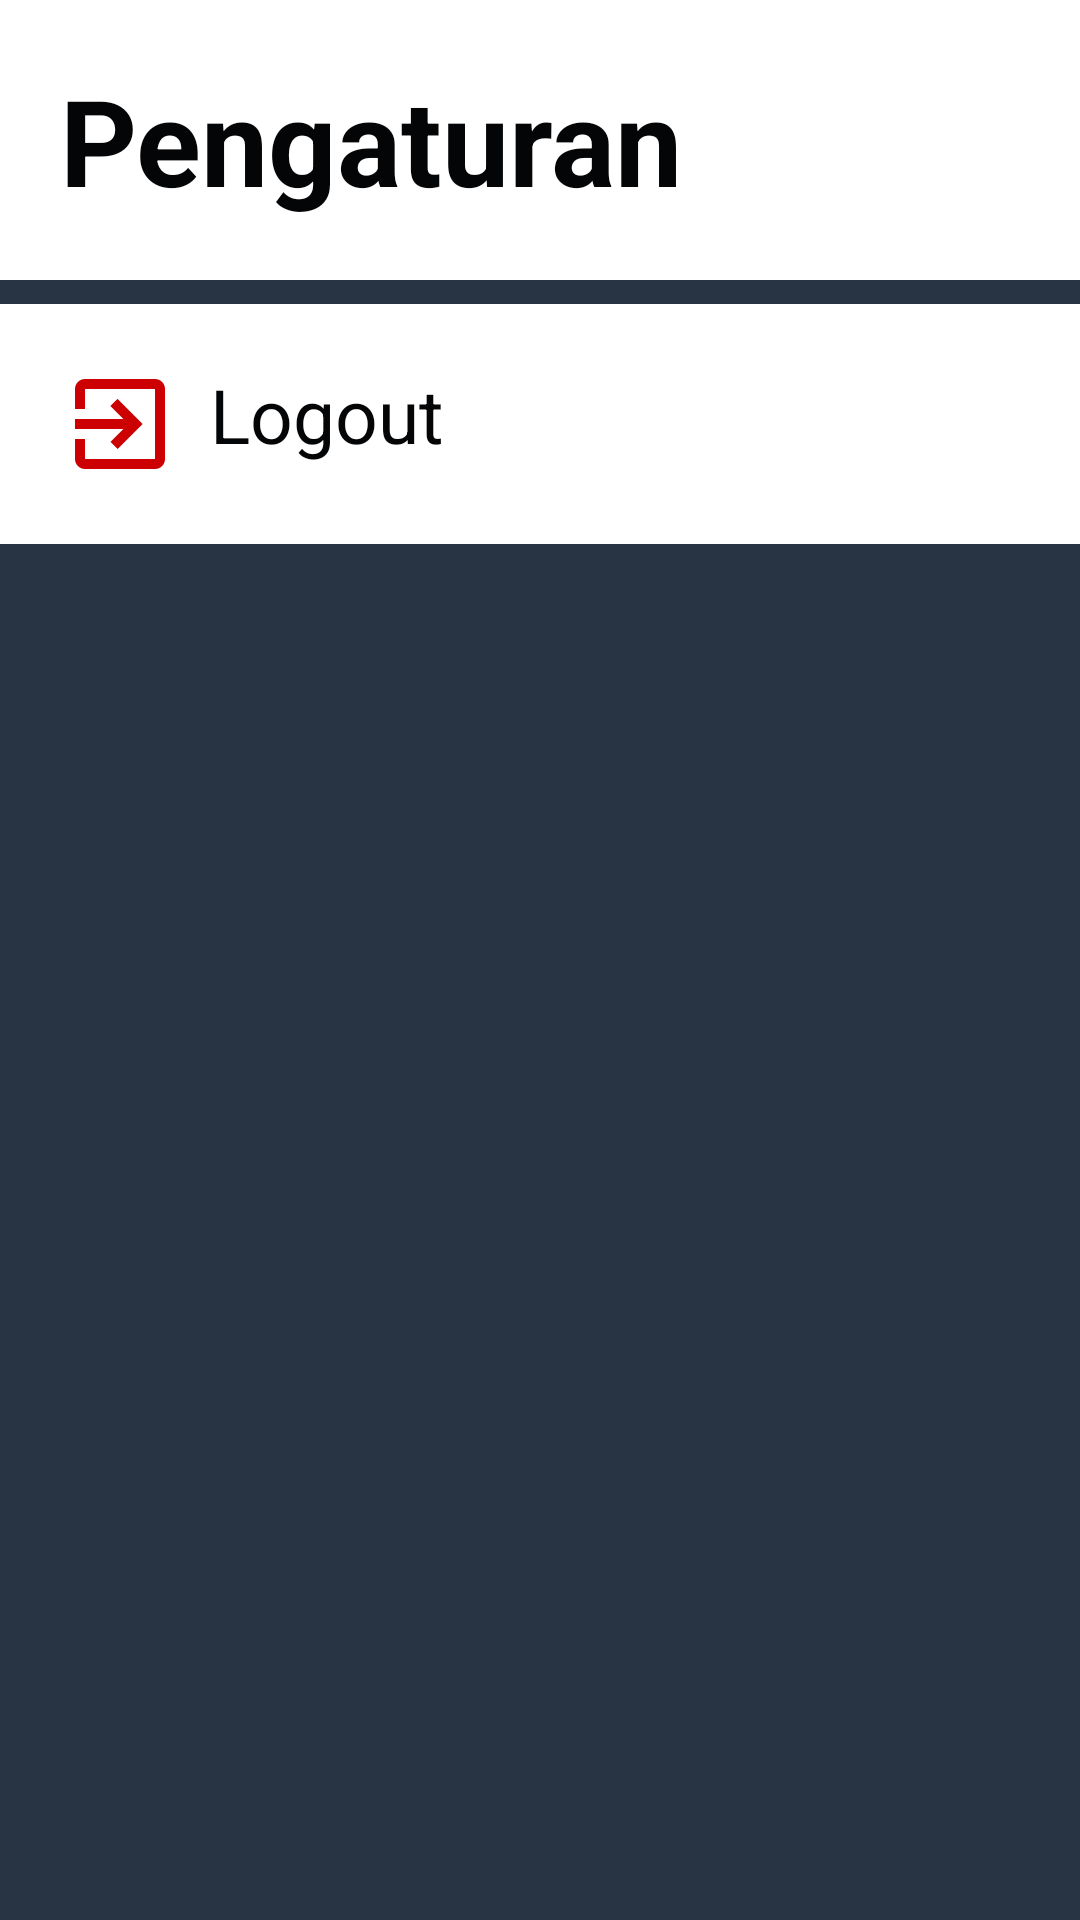

Screen size 1080w x 1920h. Icon name, then its box in pixels as bbox(x1, y1, x2, y2):
exit to app: bbox(75, 379, 165, 469)
